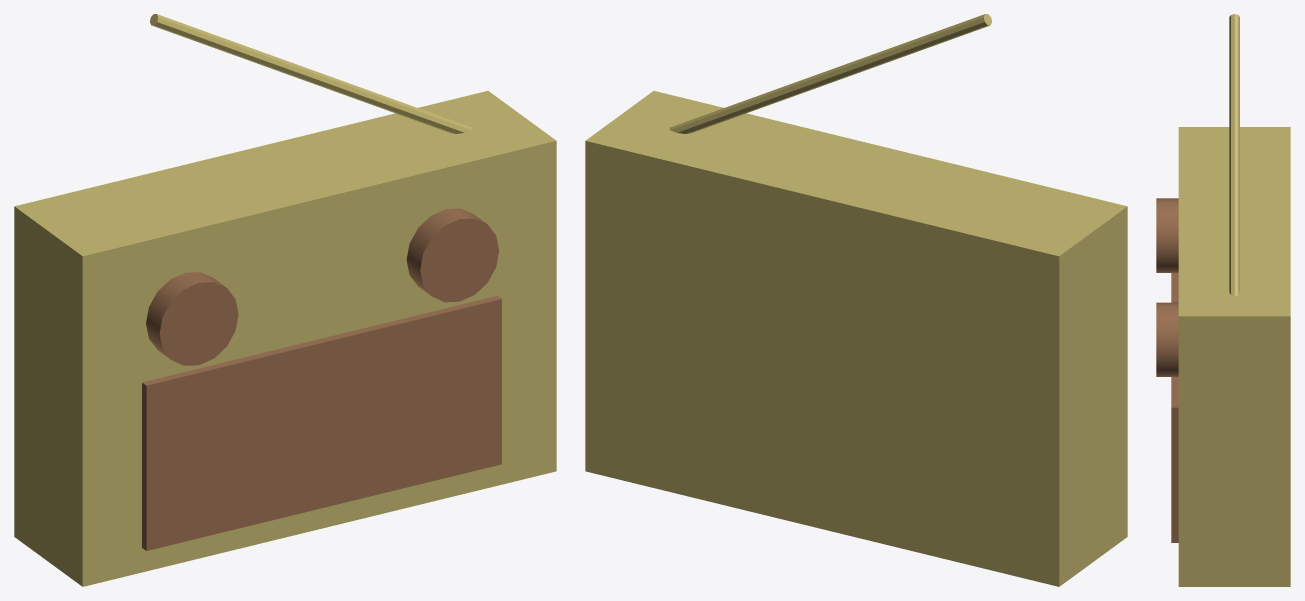
File: radio.fbx
3 views of the same model, side by side, from view 1: azimuth 30°, elevation 25°; view 2: azimuth 150°, elevation 25°; view 3: azimuth 270°, elevation 25° (orthographic). The views are drawn at different scales.
Parts seen in each view (by area): view 1: radio_body, radio_detail, button01, button02, atten; view 2: radio_body, atten; view 3: radio_body, atten, button01, button02, radio_detail.
Boxes of the visible parts, box(x1,y1,x2,y2) form: radio_body: box(14, 91, 556, 586); radio_detail: box(142, 295, 501, 550); button01: box(146, 272, 238, 365); button02: box(406, 208, 499, 302); atten: box(150, 14, 472, 133); radio_body: box(585, 91, 1127, 586); atten: box(669, 14, 991, 133); radio_body: box(1178, 127, 1290, 586); atten: box(1229, 14, 1239, 296); button01: box(1156, 198, 1178, 272); button02: box(1156, 302, 1178, 376); radio_detail: box(1171, 273, 1178, 542).
Size of the model in its own units: 6 by 6.31 by 1.8.
